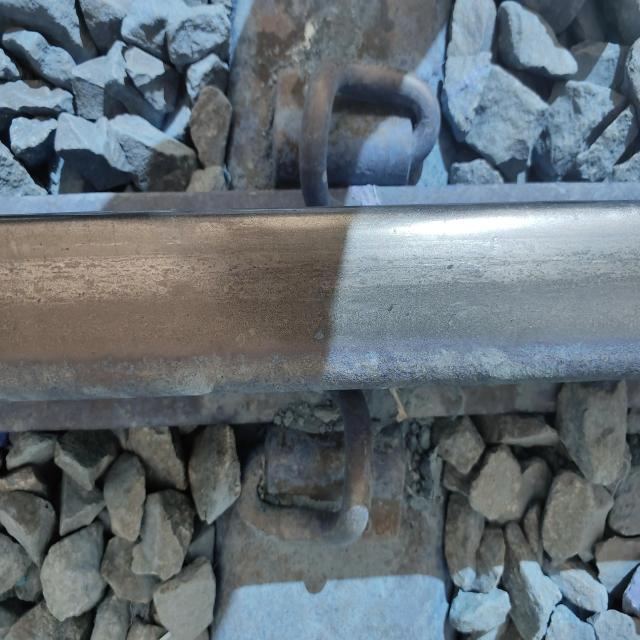Good Fasteners: (233, 384, 429, 571), (257, 54, 450, 207)
